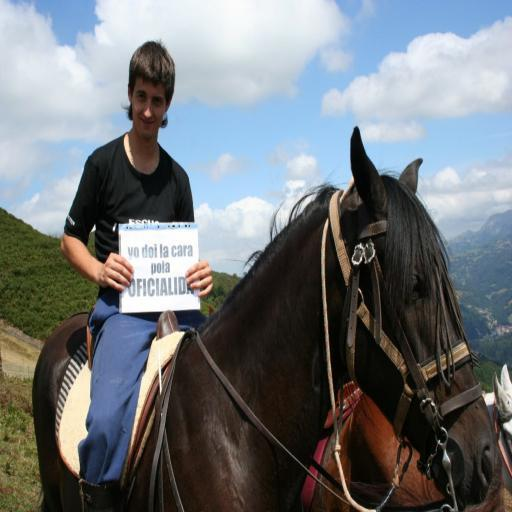horse: (30, 125, 496, 511)
